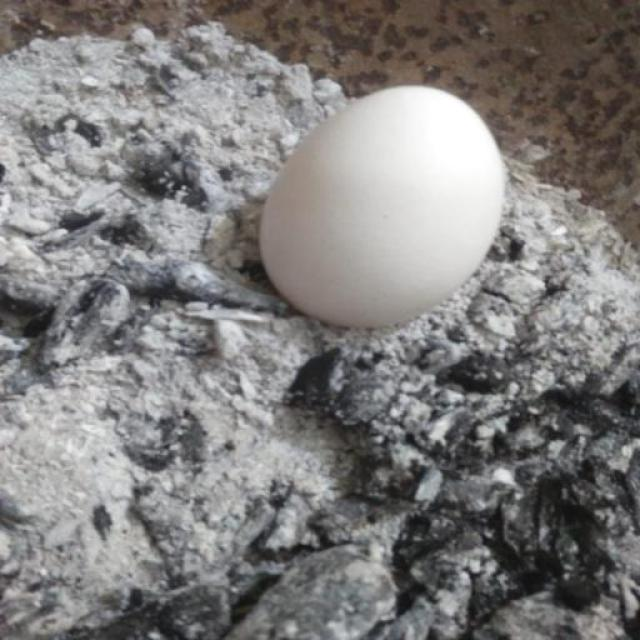telur: (258, 86, 502, 326)
